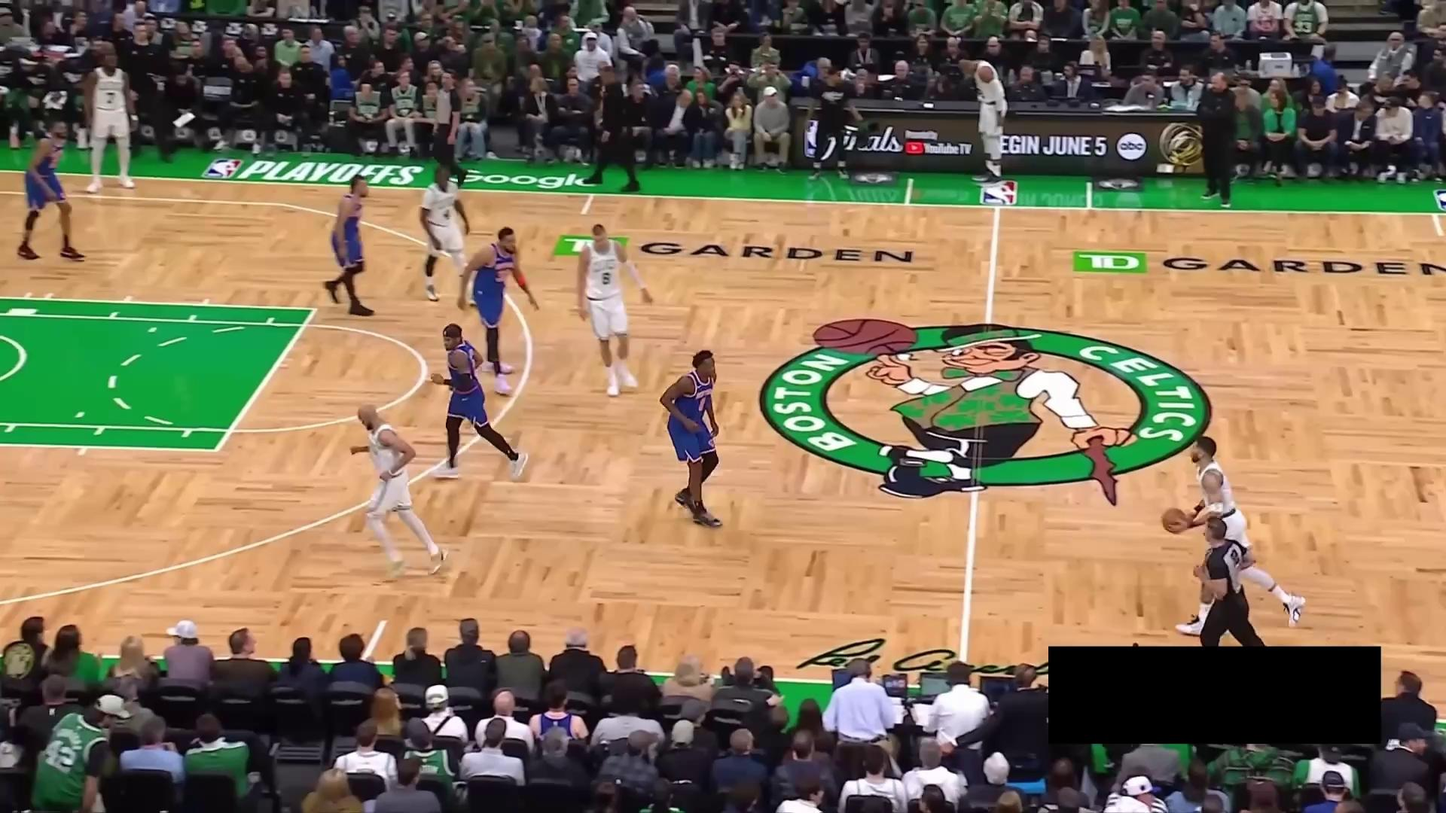ball: (1161, 507, 1188, 534)
number: (600, 270, 612, 287), (105, 90, 117, 105), (442, 208, 451, 221)
player: (349, 401, 447, 584), (428, 322, 530, 482), (456, 225, 540, 397), (575, 223, 654, 397), (659, 348, 726, 529), (16, 117, 87, 263), (82, 48, 138, 194), (322, 173, 377, 318), (418, 163, 474, 303)
player-in-possession: (1175, 436, 1306, 637)
referee: (1192, 516, 1267, 647), (430, 69, 467, 190)
